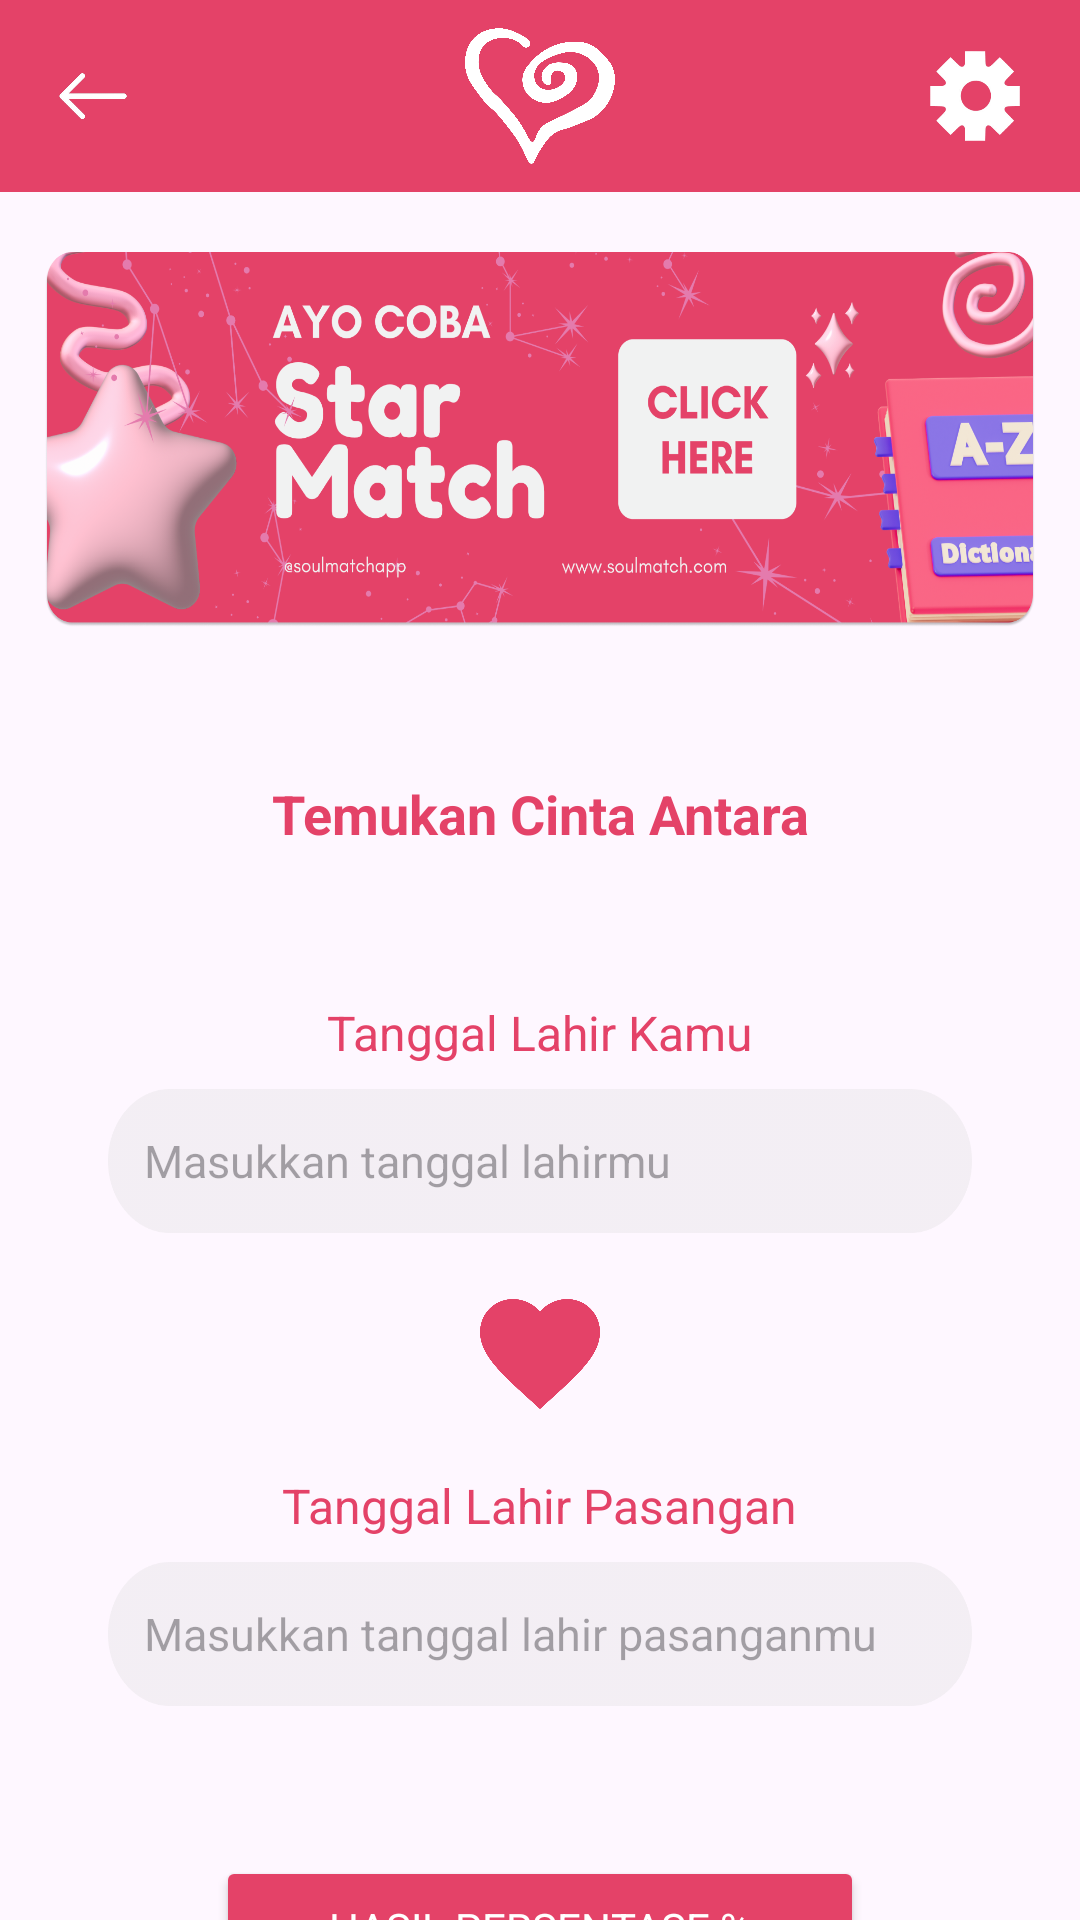

Point at icon controls on the screen. Image size 1080*1920, points as (x,y).
Back Button: (93,96)
hearticon: (540,1354)
Settings Button: (975,96)
